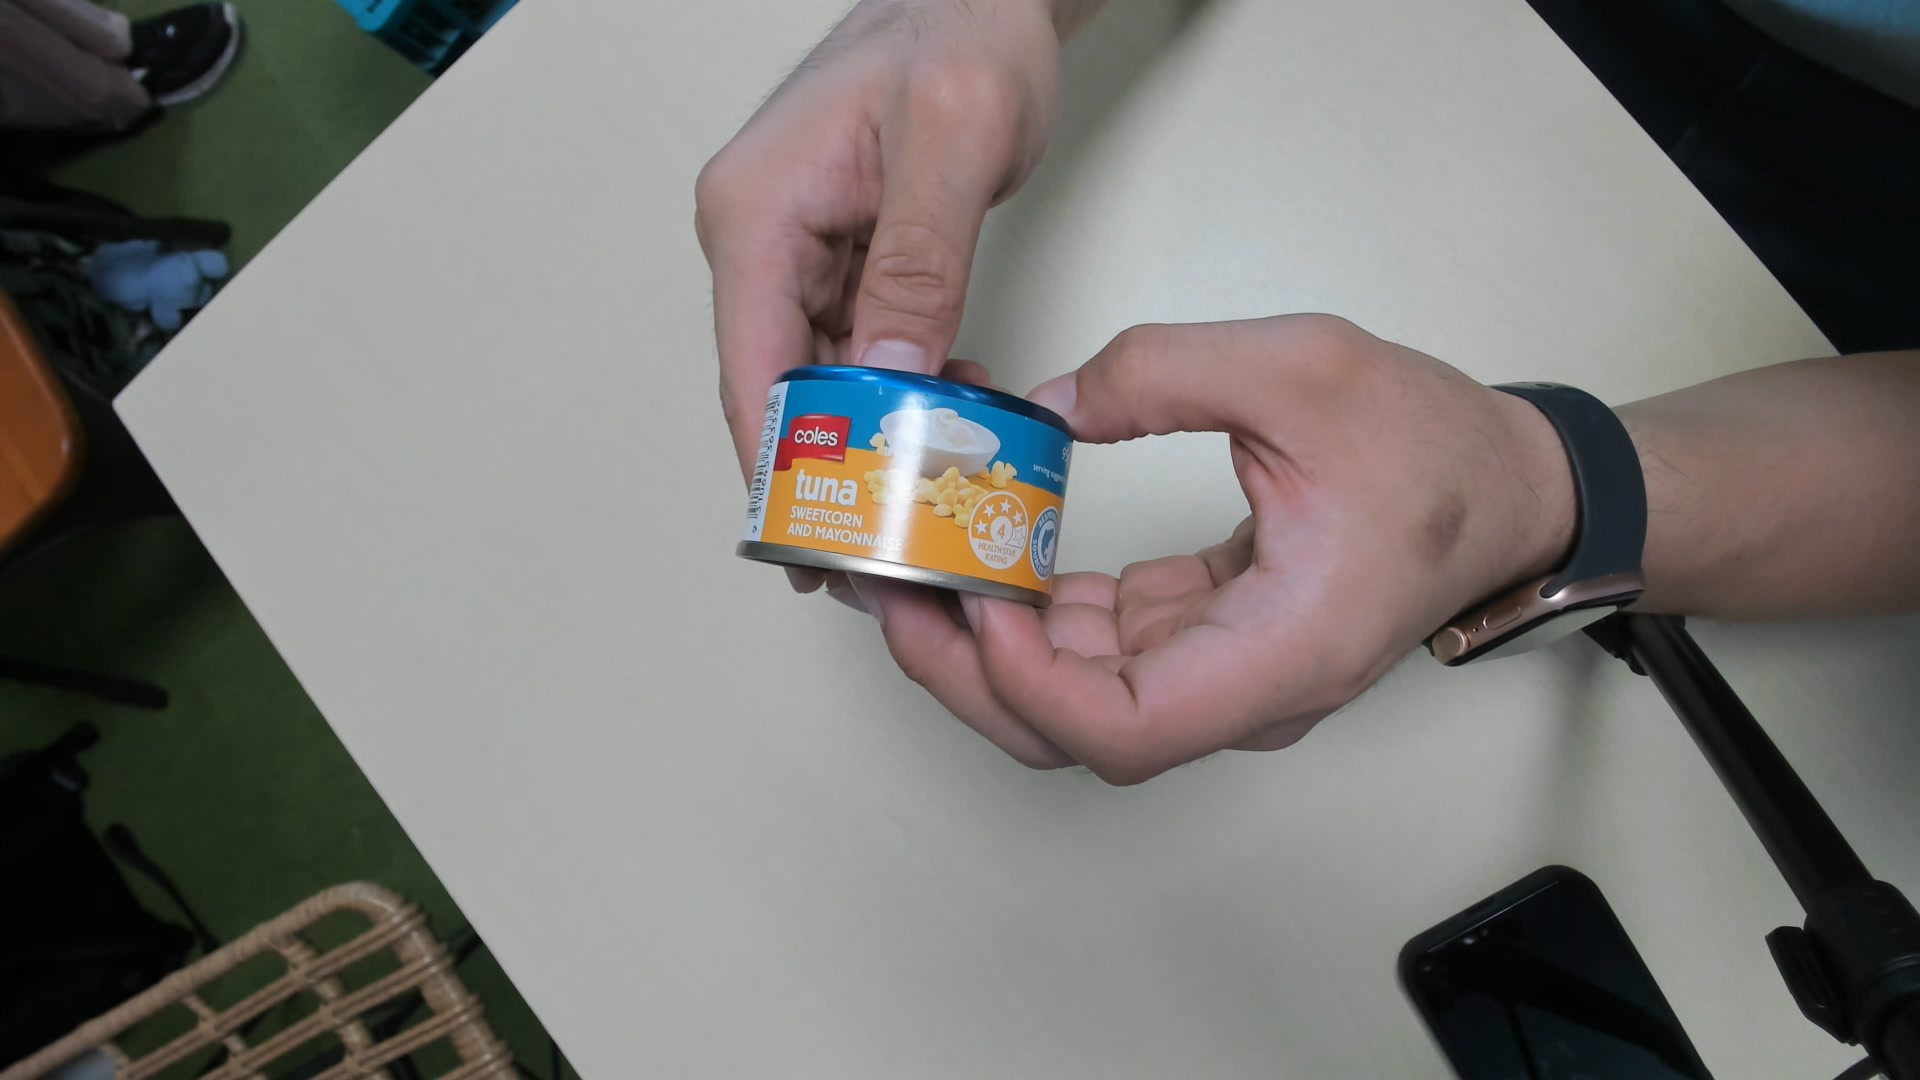OtherSauceDressing_0-99g_NonHalal_NonHealthy: (741, 365, 1077, 607)
